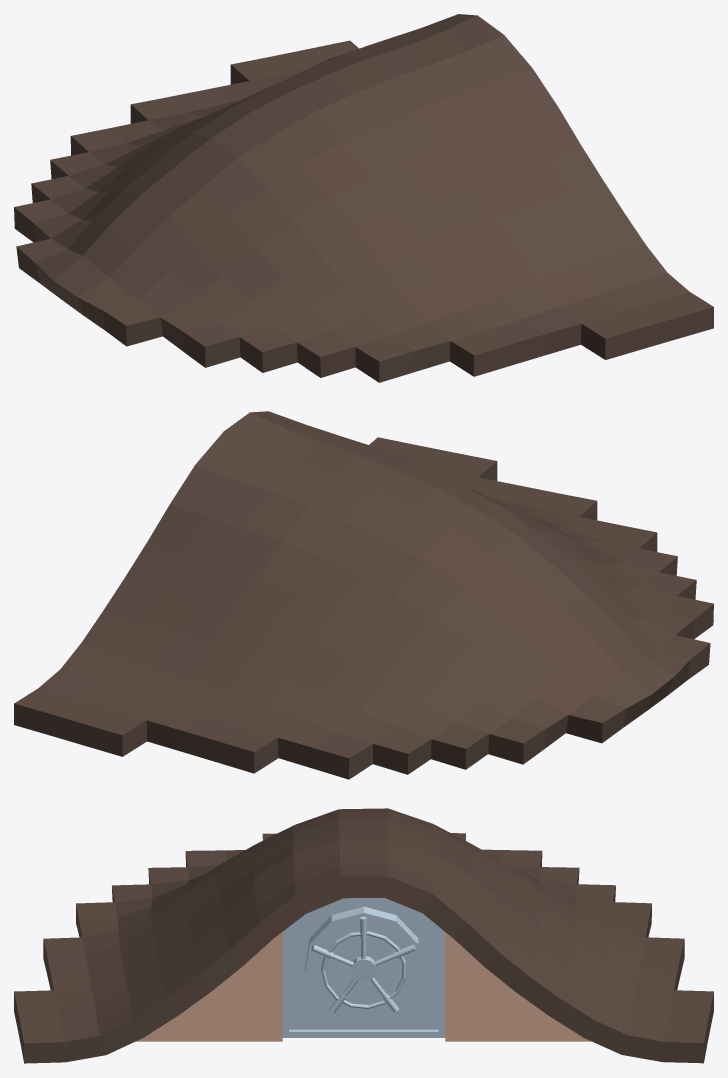
File: hiddenBase.fbx
The picture shows the model from 3 angles, top to bottom: view 1: azimuth 30°, elevation 25°; view 2: azimuth 150°, elevation 25°; view 3: azimuth 270°, elevation 25°; orthographic projection. The views are drawn at different scales.
Visible parts, largest first — view 1: hiddenBase; view 2: hiddenBase; view 3: hiddenBase.
Boxes of the visible parts, x1,y1,x2,y2 form: hiddenBase: [14, 14, 713, 382]; hiddenBase: [14, 411, 713, 779]; hiddenBase: [14, 808, 713, 1063].
Bounding box in the file's own units: 33.47 × 24.11 × 8.93.
